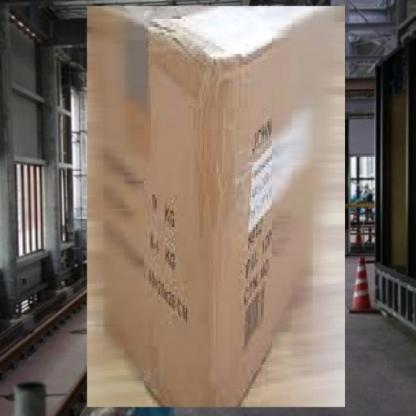box: (84, 0, 348, 414)
